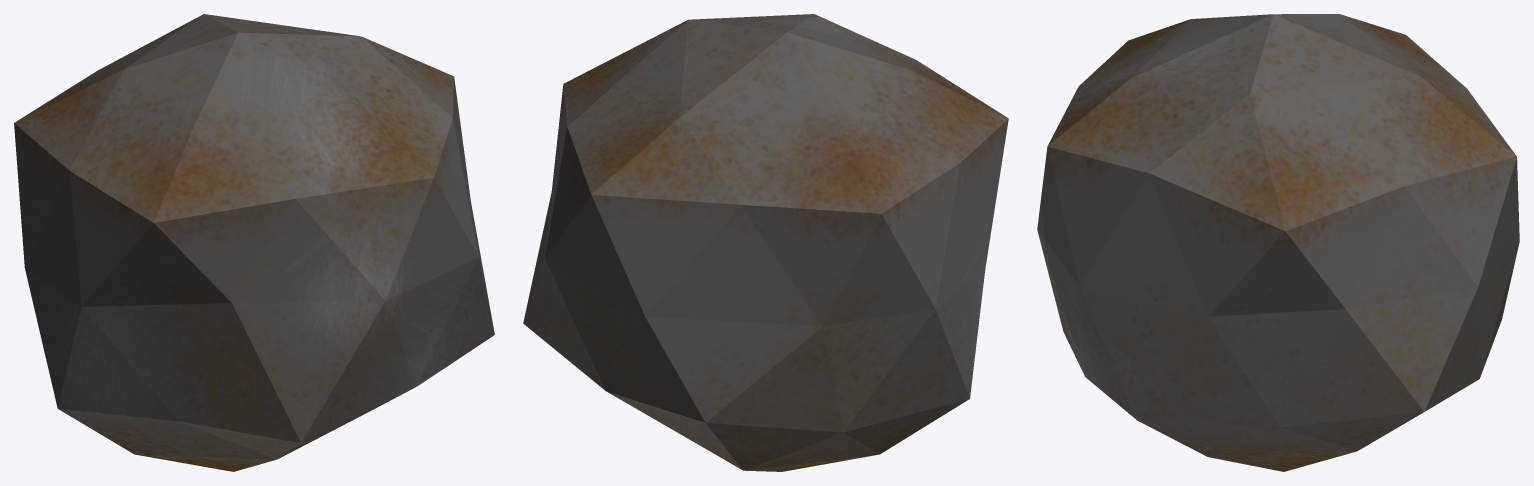
Rendered from SM_character_closed_2_SH.fbx.
The picture shows the model from 3 angles, left to right: view 1: azimuth 30°, elevation 25°; view 2: azimuth 150°, elevation 25°; view 3: azimuth 270°, elevation 25°; orthographic projection. The views are drawn at different scales.
Visible parts, largest first — view 1: SM_character_2_SH; view 2: SM_character_2_SH; view 3: SM_character_2_SH.
Boxes of the visible parts, box(x1,y1,x2,y2) form: SM_character_2_SH: box(14, 14, 494, 471); SM_character_2_SH: box(523, 14, 1008, 471); SM_character_2_SH: box(1037, 14, 1519, 471).
Bounding box in the file's own units: 557 × 557 × 583.
